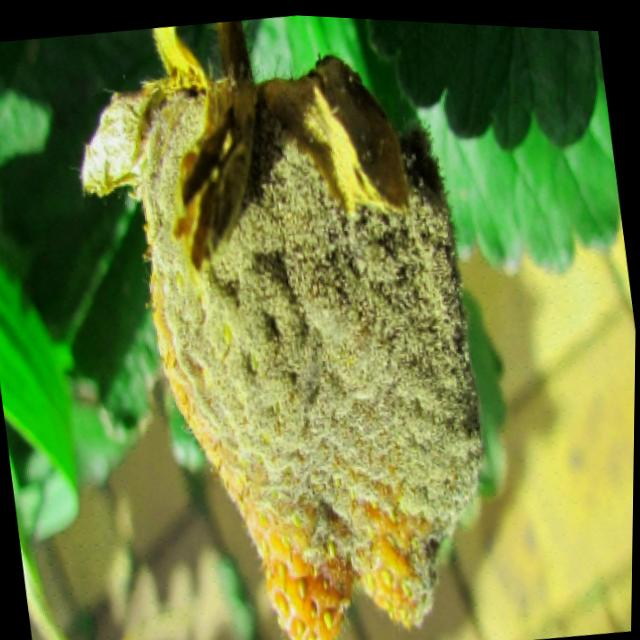Gray Mold: (78, 50, 489, 640)
